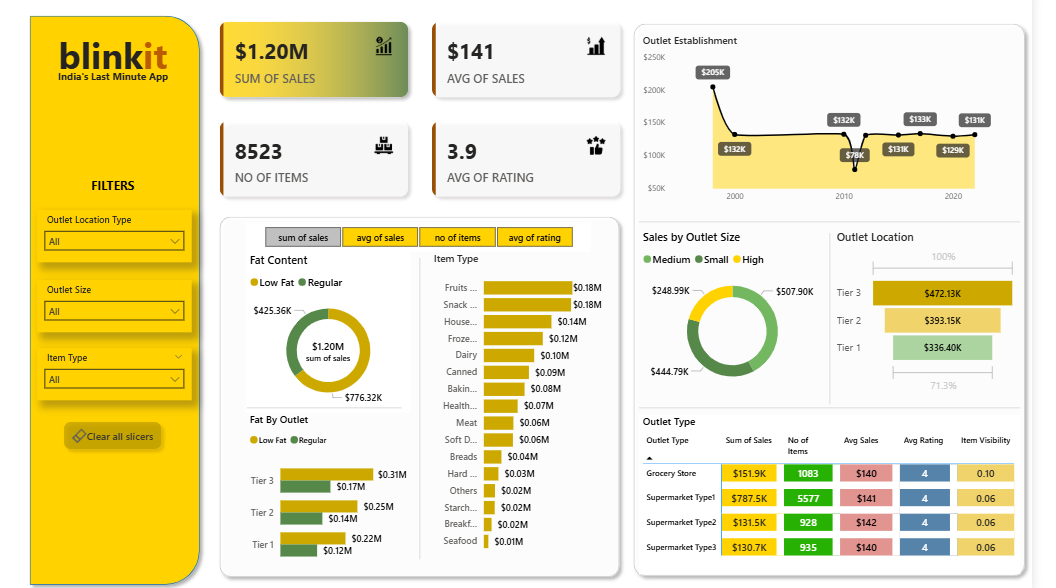

Layout of this report page (visuals, bound fields, positions):
{"tool":"powerbi","page":{"name":"Page 1","canvas":[1400,800],"ordinal":0},"visuals":[{"type":"shape","box":[50.6,20.8,245.4,779.2],"z":0},{"type":"textbox","box":[82.8,43.7,176.1,84.3],"z":1000},{"type":"textbox","box":[79.8,97.8,182.2,30.1],"z":2000},{"type":"cardVisual","fields":{"Data":["blinkit_data.sum of sales","blinkit_data.avg of sales","blinkit_data.no of items","blinkit_data.avg of rating"]},"box":[296.6,21.1,570.5,269.5],"z":3000},{"type":"shape","box":[305.6,290.5,552.5,499.8],"z":4000},{"type":"slicer","fields":{"Values":["metrics.metrics"]},"box":[349.4,306.3,461,40.1],"z":5000},{"type":"donutChart","title":"Fat Content","fields":{"Y":["blinkit_data.sum of sales"],"Category":["blinkit_data.Item Fat Content"]},"box":[349.4,346.5,220.1,215],"z":6000},{"type":"cardVisual","fields":{"Data":["blinkit_data.sum of sales"]},"box":[411.5,446.2,94.6,56.2],"z":7000},{"type":"clusteredBarChart","title":"Fat By Outlet","fields":{"Y":["blinkit_data.sum of sales"],"Category":["blinkit_data.Outlet Location Type"],"Series":["blinkit_data.Item Fat Content"]},"box":[349.4,562.1,220.1,215.6],"z":8000},{"type":"shape","box":[350.9,538.3,206.7,34.2],"z":9000},{"type":"shape","box":[557.6,353.9,47.6,403],"z":10000},{"type":"clusteredBarChart","title":"Item Type","fields":{"Y":["blinkit_data.sum of sales"],"Category":["blinkit_data.Item Type"]},"box":[594.8,346.5,234.9,410.4],"z":11000},{"type":"shape","box":[859.5,32.7,541.3,756.9],"z":12000},{"type":"lineChart","title":"Outlet Establishment","fields":{"Y":["blinkit_data.sum of sales"],"Category":["blinkit_data.Outlet Establishment Year"]},"box":[874.3,55,510,234.9],"z":13000},{"type":"shape","box":[874.3,288.5,510,34.2],"z":14000},{"type":"donutChart","title":"Sales by Outlet Size","fields":{"Y":["blinkit_data.sum of sales"],"Category":["blinkit_data.Outlet Size"]},"box":[874.3,315.2,250,224.5],"z":15000},{"type":"shape","box":[1106.3,321.2,47.6,229],"z":16000},{"type":"funnel","title":"Outlet Location","fields":{"Y":["blinkit_data.sum of sales"],"Category":["blinkit_data.Outlet Location Type"]},"box":[1134.6,315.2,249.8,224.5],"z":17000},{"type":"shape","box":[874.3,538.3,510,34.2],"z":18000},{"type":"pivotTable","title":"Outlet Type","fields":{"Rows":["blinkit_data.Outlet Type"],"Values":["blinkit_data.sum of sales","blinkit_data.no of items","blinkit_data.avg of sales","blinkit_data.avg of rating","Avg(blinkit_data.Item Visibility)"]},"box":[874.3,565.1,510,212.6],"z":19000},{"type":"slicer","fields":{"Values":["blinkit_data.Outlet Location Type"]},"box":[69.9,290,206.7,69.9],"z":20000},{"type":"slicer","fields":{"Values":["blinkit_data.Outlet Size"]},"box":[69.9,383.6,206.7,69.9],"z":21000},{"type":"slicer","fields":{"Values":["blinkit_data.Item Type"]},"box":[69.9,474.3,206.7,69.9],"z":22000},{"type":"actionButton","box":[96.7,565.1,148.7,55],"z":23000},{"type":"textbox","box":[119,242.4,104.1,35.7],"z":24000}]}

Visuals, with their boxes in screenshot pixels (x1, y1, x2, y2), scaled from the page's 1400x800 canvas onto the 1056x588 screenshot:
shape: crop(38, 15, 223, 587)
textbox: crop(62, 32, 195, 94)
textbox: crop(60, 72, 198, 94)
cardVisual - blinkit_data.sum of sales x blinkit_data.avg of sales: crop(224, 16, 654, 214)
shape: crop(231, 214, 647, 581)
slicer - metrics.metrics: crop(264, 225, 611, 255)
"Fat Content" donutChart: crop(264, 255, 430, 413)
cardVisual - blinkit_data.sum of sales: crop(310, 328, 382, 369)
"Fat By Outlet" clusteredBarChart: crop(264, 413, 430, 572)
shape: crop(265, 396, 421, 421)
shape: crop(421, 260, 456, 556)
"Item Type" clusteredBarChart: crop(449, 255, 626, 556)
shape: crop(648, 24, 1055, 580)
"Outlet Establishment" lineChart: crop(659, 40, 1044, 213)
shape: crop(659, 212, 1044, 237)
"Sales by Outlet Size" donutChart: crop(659, 232, 848, 397)
shape: crop(834, 236, 870, 404)
"Outlet Location" funnel: crop(856, 232, 1044, 397)
shape: crop(659, 396, 1044, 421)
"Outlet Type" pivotTable: crop(659, 415, 1044, 572)
slicer - blinkit_data.Outlet Location Type: crop(53, 213, 209, 265)
slicer - blinkit_data.Outlet Size: crop(53, 282, 209, 333)
slicer - blinkit_data.Item Type: crop(53, 349, 209, 400)
actionButton: crop(73, 415, 185, 456)
textbox: crop(90, 178, 168, 204)
